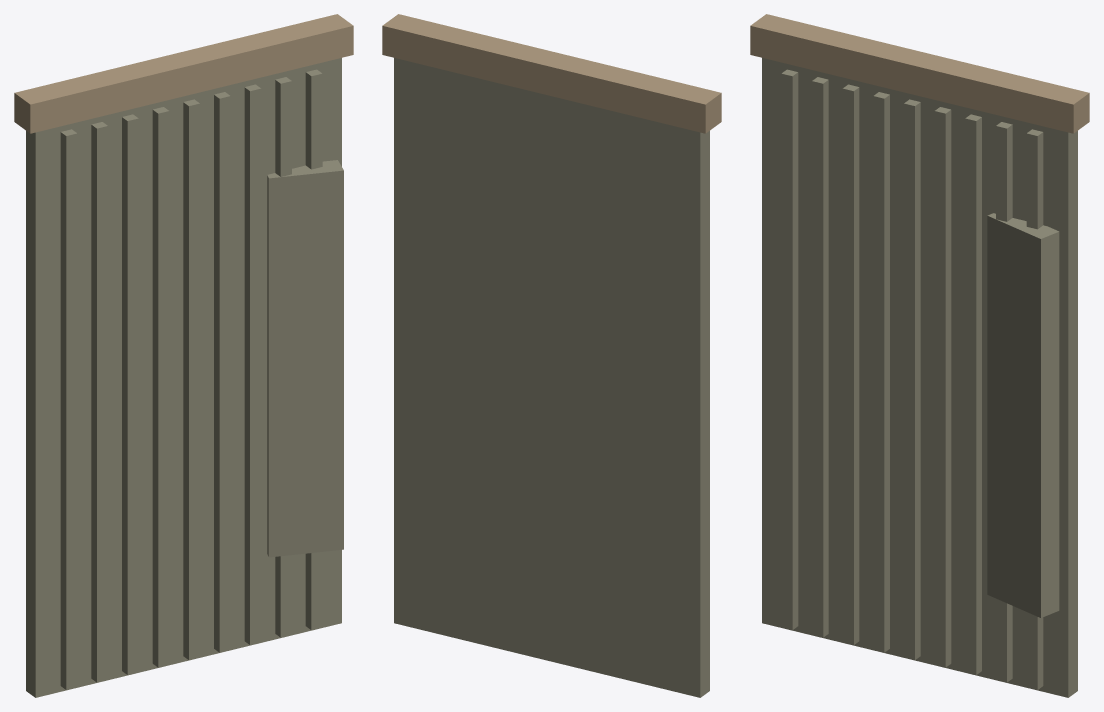
File: trench-line-1917-blanket-door-99292af2__24070.glb
3 renders of one model, left to right at view 1: azimuth 30°, elevation 25°; view 2: azimuth 150°, elevation 25°; view 3: azimuth 330°, elevation 25°, orthographic.
Visible parts, largest first — view 1: blanket-door; view 2: blanket-door; view 3: blanket-door.
Boxes of the visible parts, left/top/right/bottom form: blanket-door: left=14, top=14, right=353, bottom=697; blanket-door: left=382, top=14, right=721, bottom=697; blanket-door: left=750, top=14, right=1089, bottom=697.
Size of the model in its own units: 1.16 by 2.05 by 0.1716.
